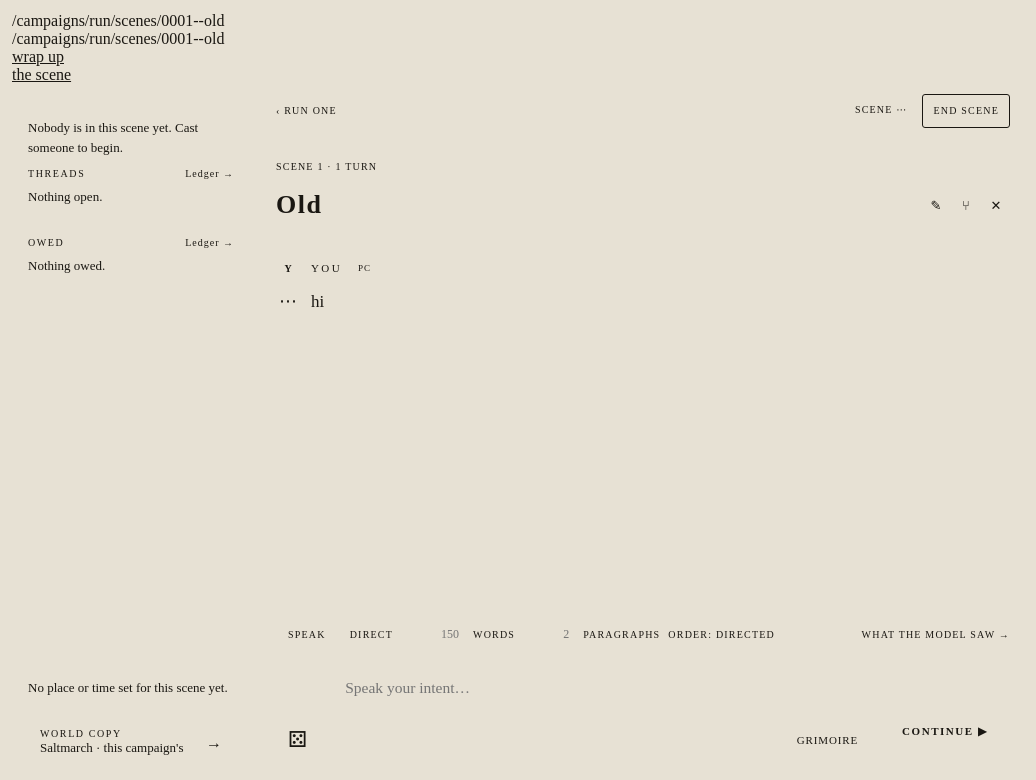
Test case: what the fork could not put back is reported, and outlives the navigation
Check: the text "hi" is shown, box [311,292,324,311]
Click the button named "Fork campaign at this scene" at (966, 205), box [952,191,980,219]
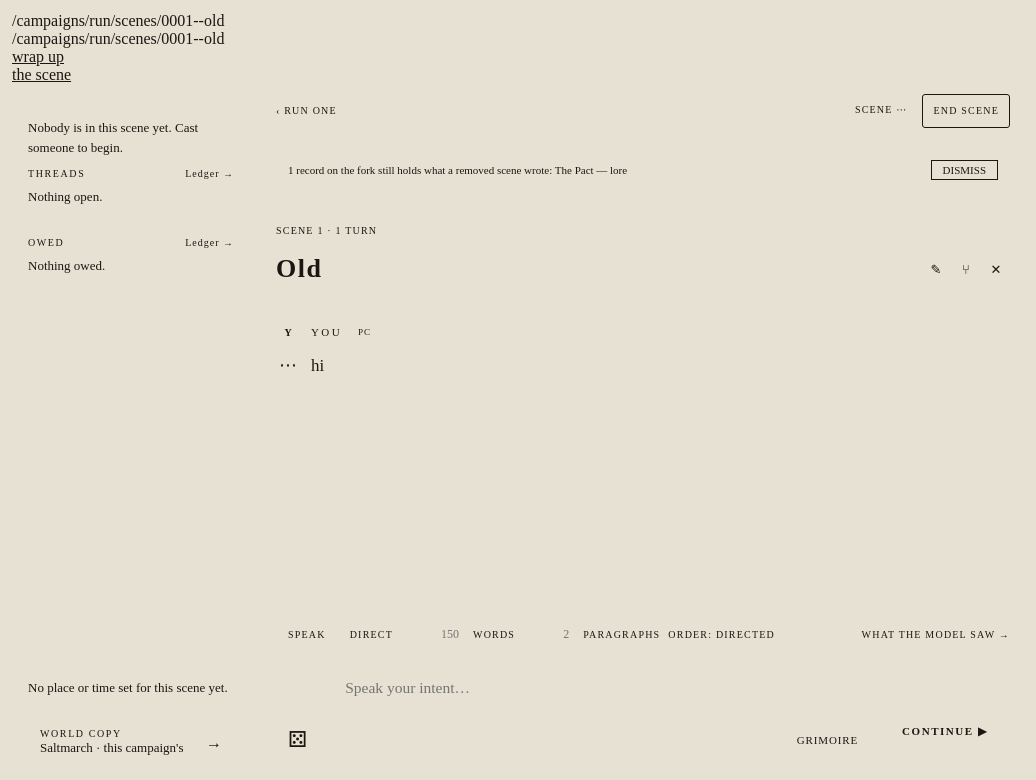
Check: the text with test id "here" reads "/campaigns/run/scenes/0001--old", box [12,12,224,29]
Check: the text "still holds what a removed scene wrote" is shown, box [288,164,627,176]
